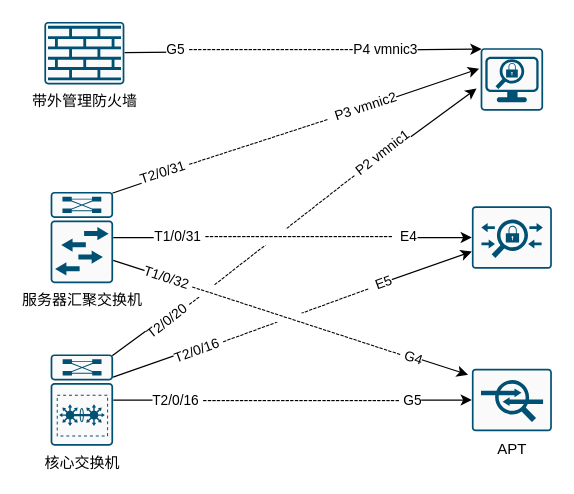
Image size: 574x494. Some labels were removed from this diagram. The centre of each missing label's shape, as x and y in pixels:
"数据库审计" goes at pixel 511 237.
"流量监测" goes at pixel 511 79.
